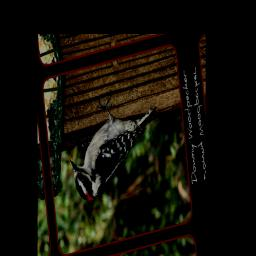Woodpecker: (64, 75, 163, 206)
